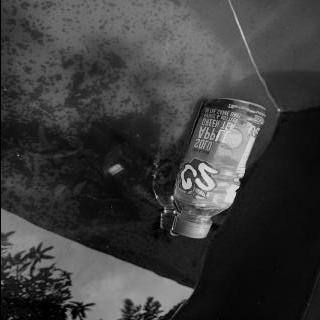bottle: (170, 96, 267, 238)
